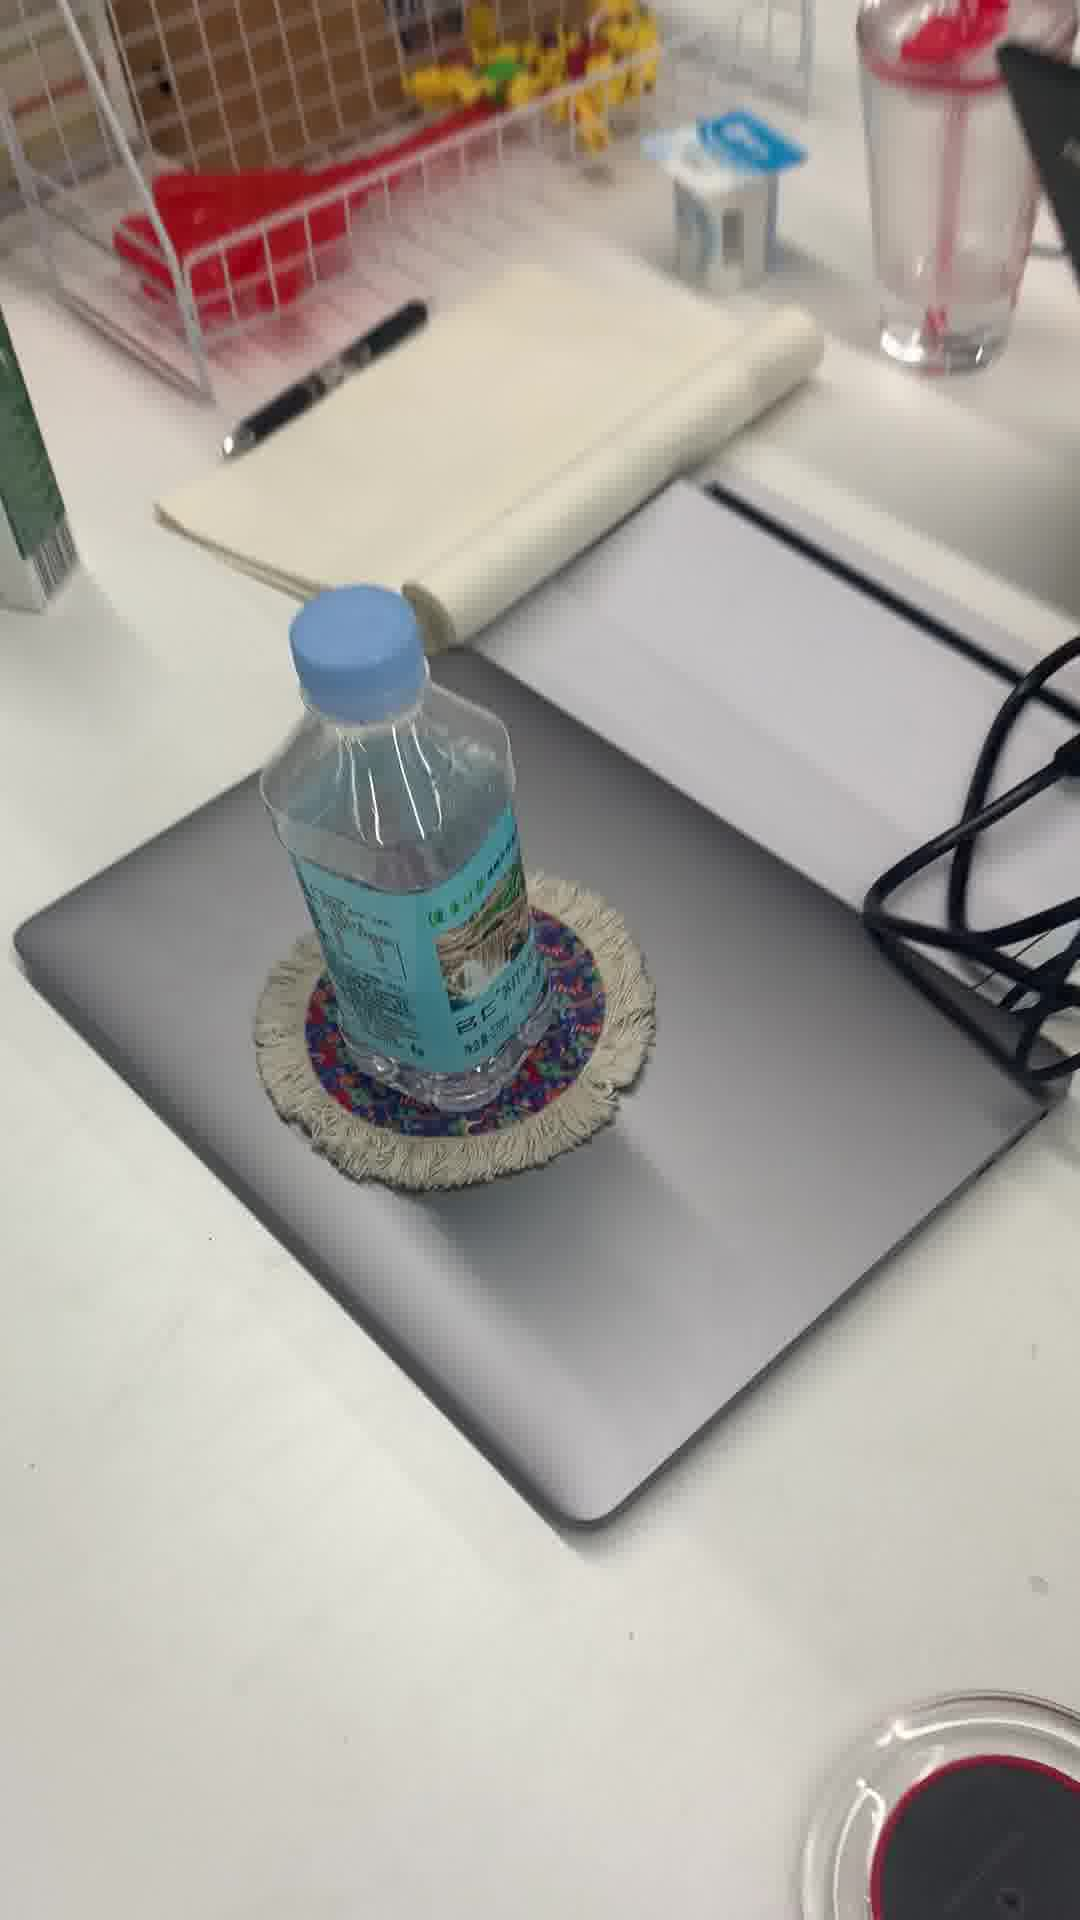水瓶: (251, 580, 571, 1117)
